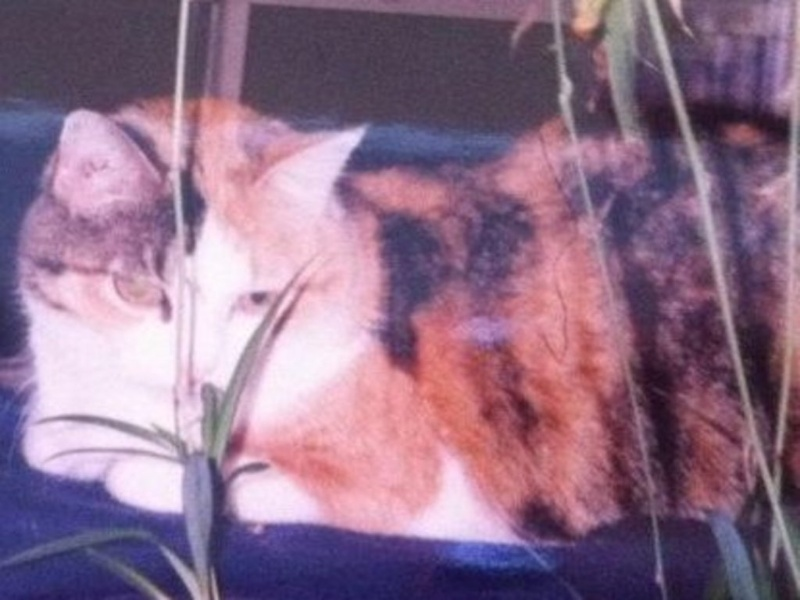cat: (17, 92, 797, 549)
